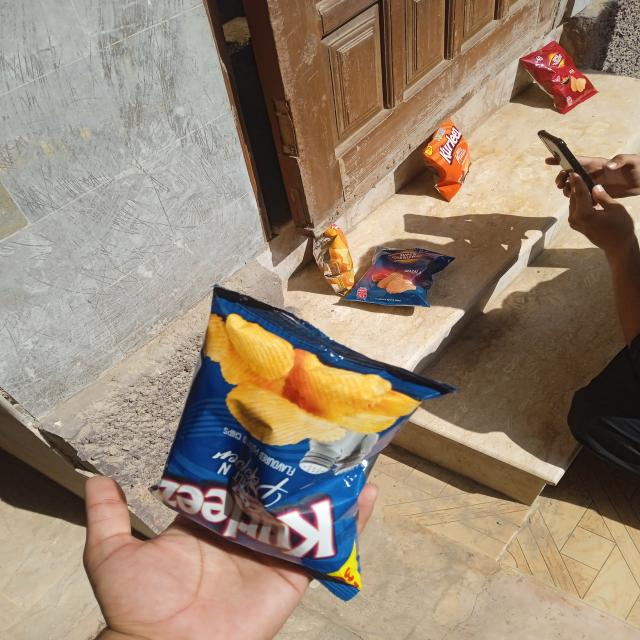Plastic: (156, 284, 426, 588), (358, 237, 456, 309), (516, 38, 598, 108), (414, 118, 478, 198)
